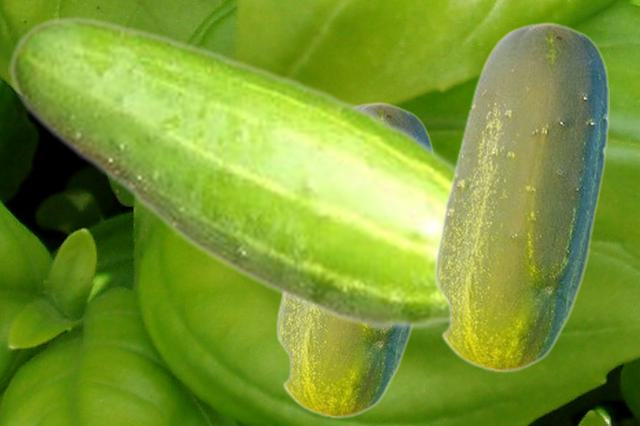cucumber: (8, 15, 454, 333), (433, 21, 608, 372), (275, 101, 433, 418)
